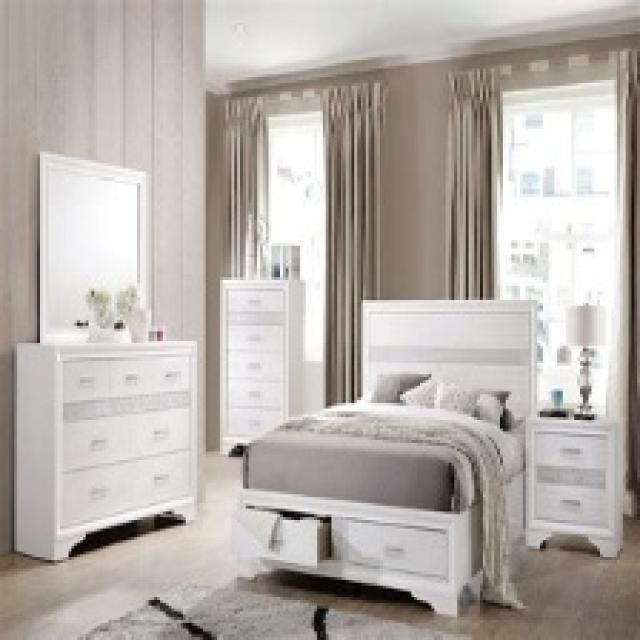Bed: (232, 297, 537, 617)
